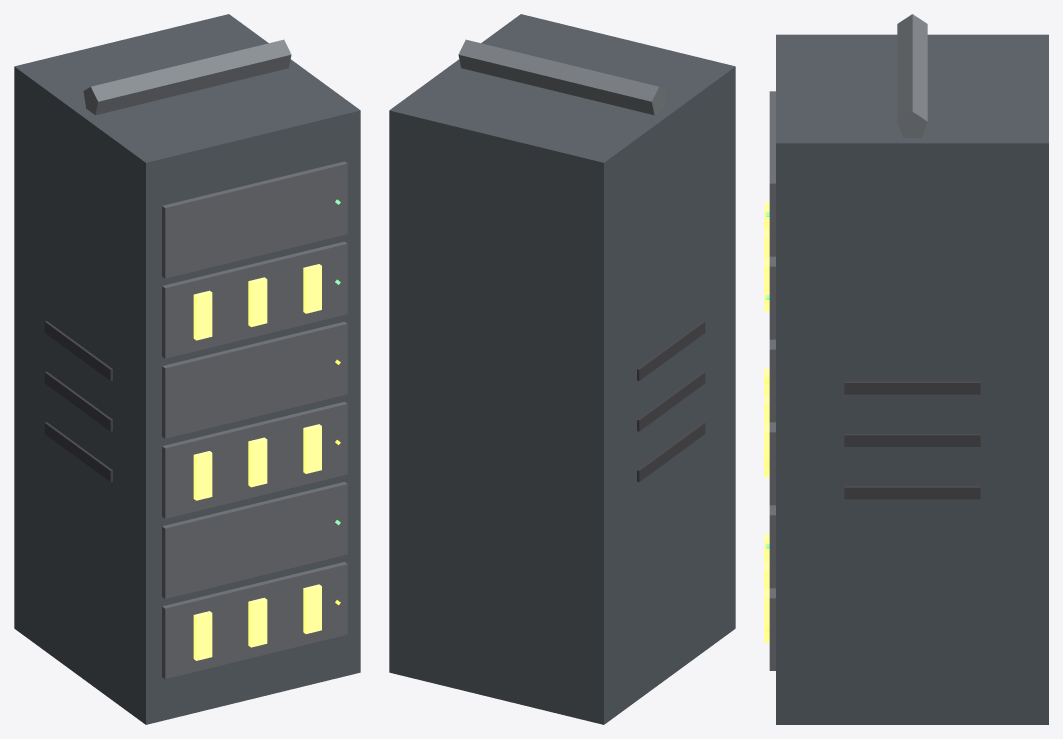
File: server_rack.glb
The picture shows the model from 3 angles, left to right: view 1: azimuth 30°, elevation 25°; view 2: azimuth 150°, elevation 25°; view 3: azimuth 270°, elevation 25°; orthographic projection. The views are drawn at different scales.
Parts seen in each view (by area): view 1: consciousness_server_rack; view 2: consciousness_server_rack; view 3: consciousness_server_rack.
Part boxes in pixels (x1,y1,x2,y2): consciousness_server_rack: (14,14,360,724); consciousness_server_rack: (389,14,735,724); consciousness_server_rack: (764,14,1048,724).
Bounding box in the file's own units: 0.818 × 2.09 × 0.8875.
